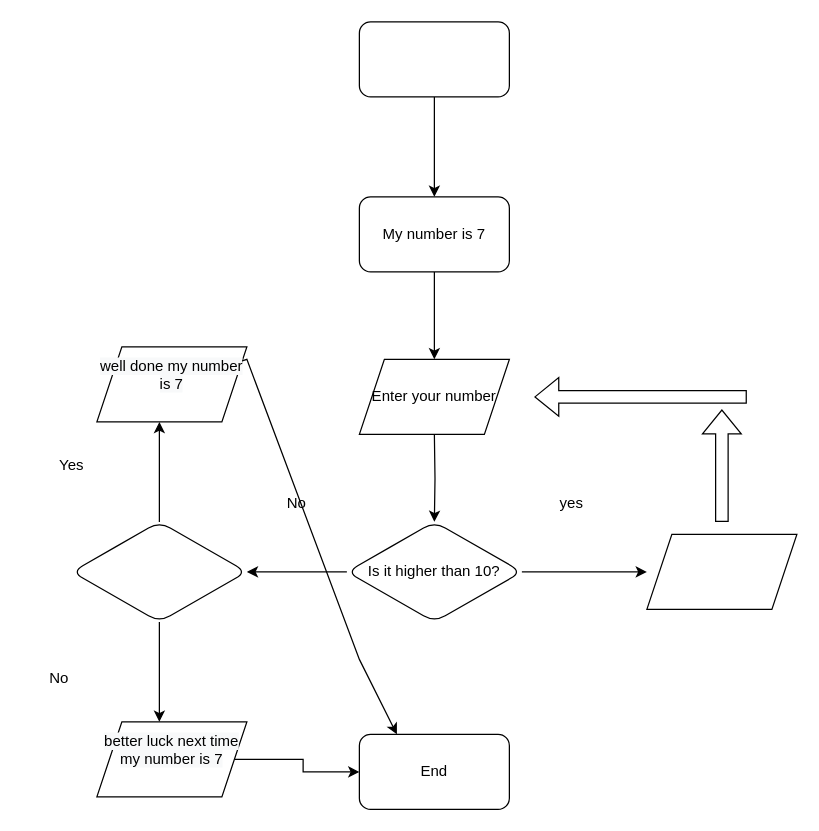
The diagram is 819 pixels wide and 831 high, and some of its shapes have lost their labels. Here are the shapes that lost their labels. From the top down, the centre of each, then its label:
(433,59): start
(159,571): Is it number 7
(721,571): To hight it have to be number 1-10
